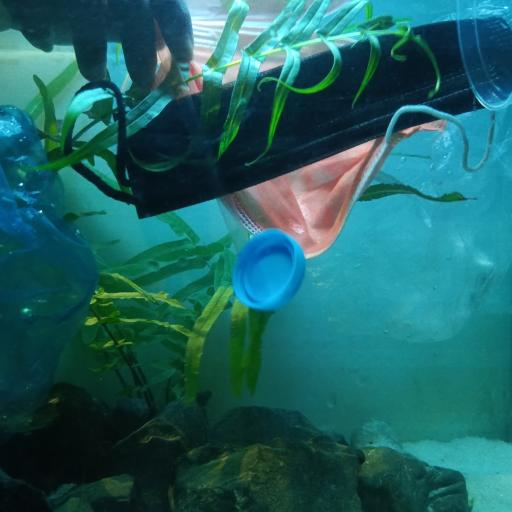bottle_cap: (233, 228, 304, 310)
mask: (60, 15, 512, 210), (168, 27, 494, 255)
plastic_bag: (333, 96, 512, 347), (0, 101, 104, 435)
plastic_cup: (453, 3, 512, 118)
plastic_straw: (152, 24, 266, 300)
